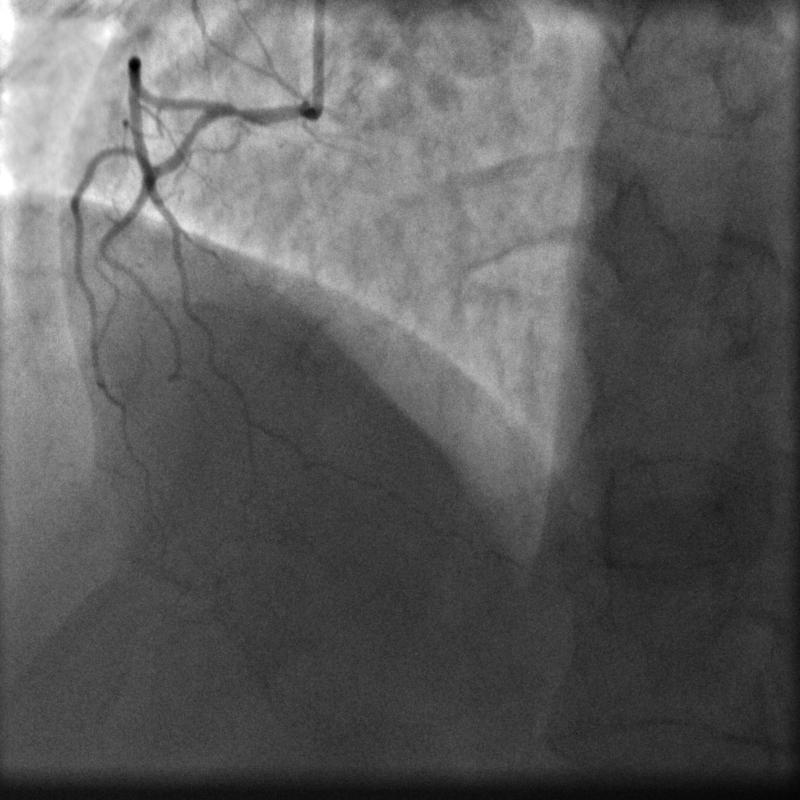Stenosis: (224, 92, 248, 138)
